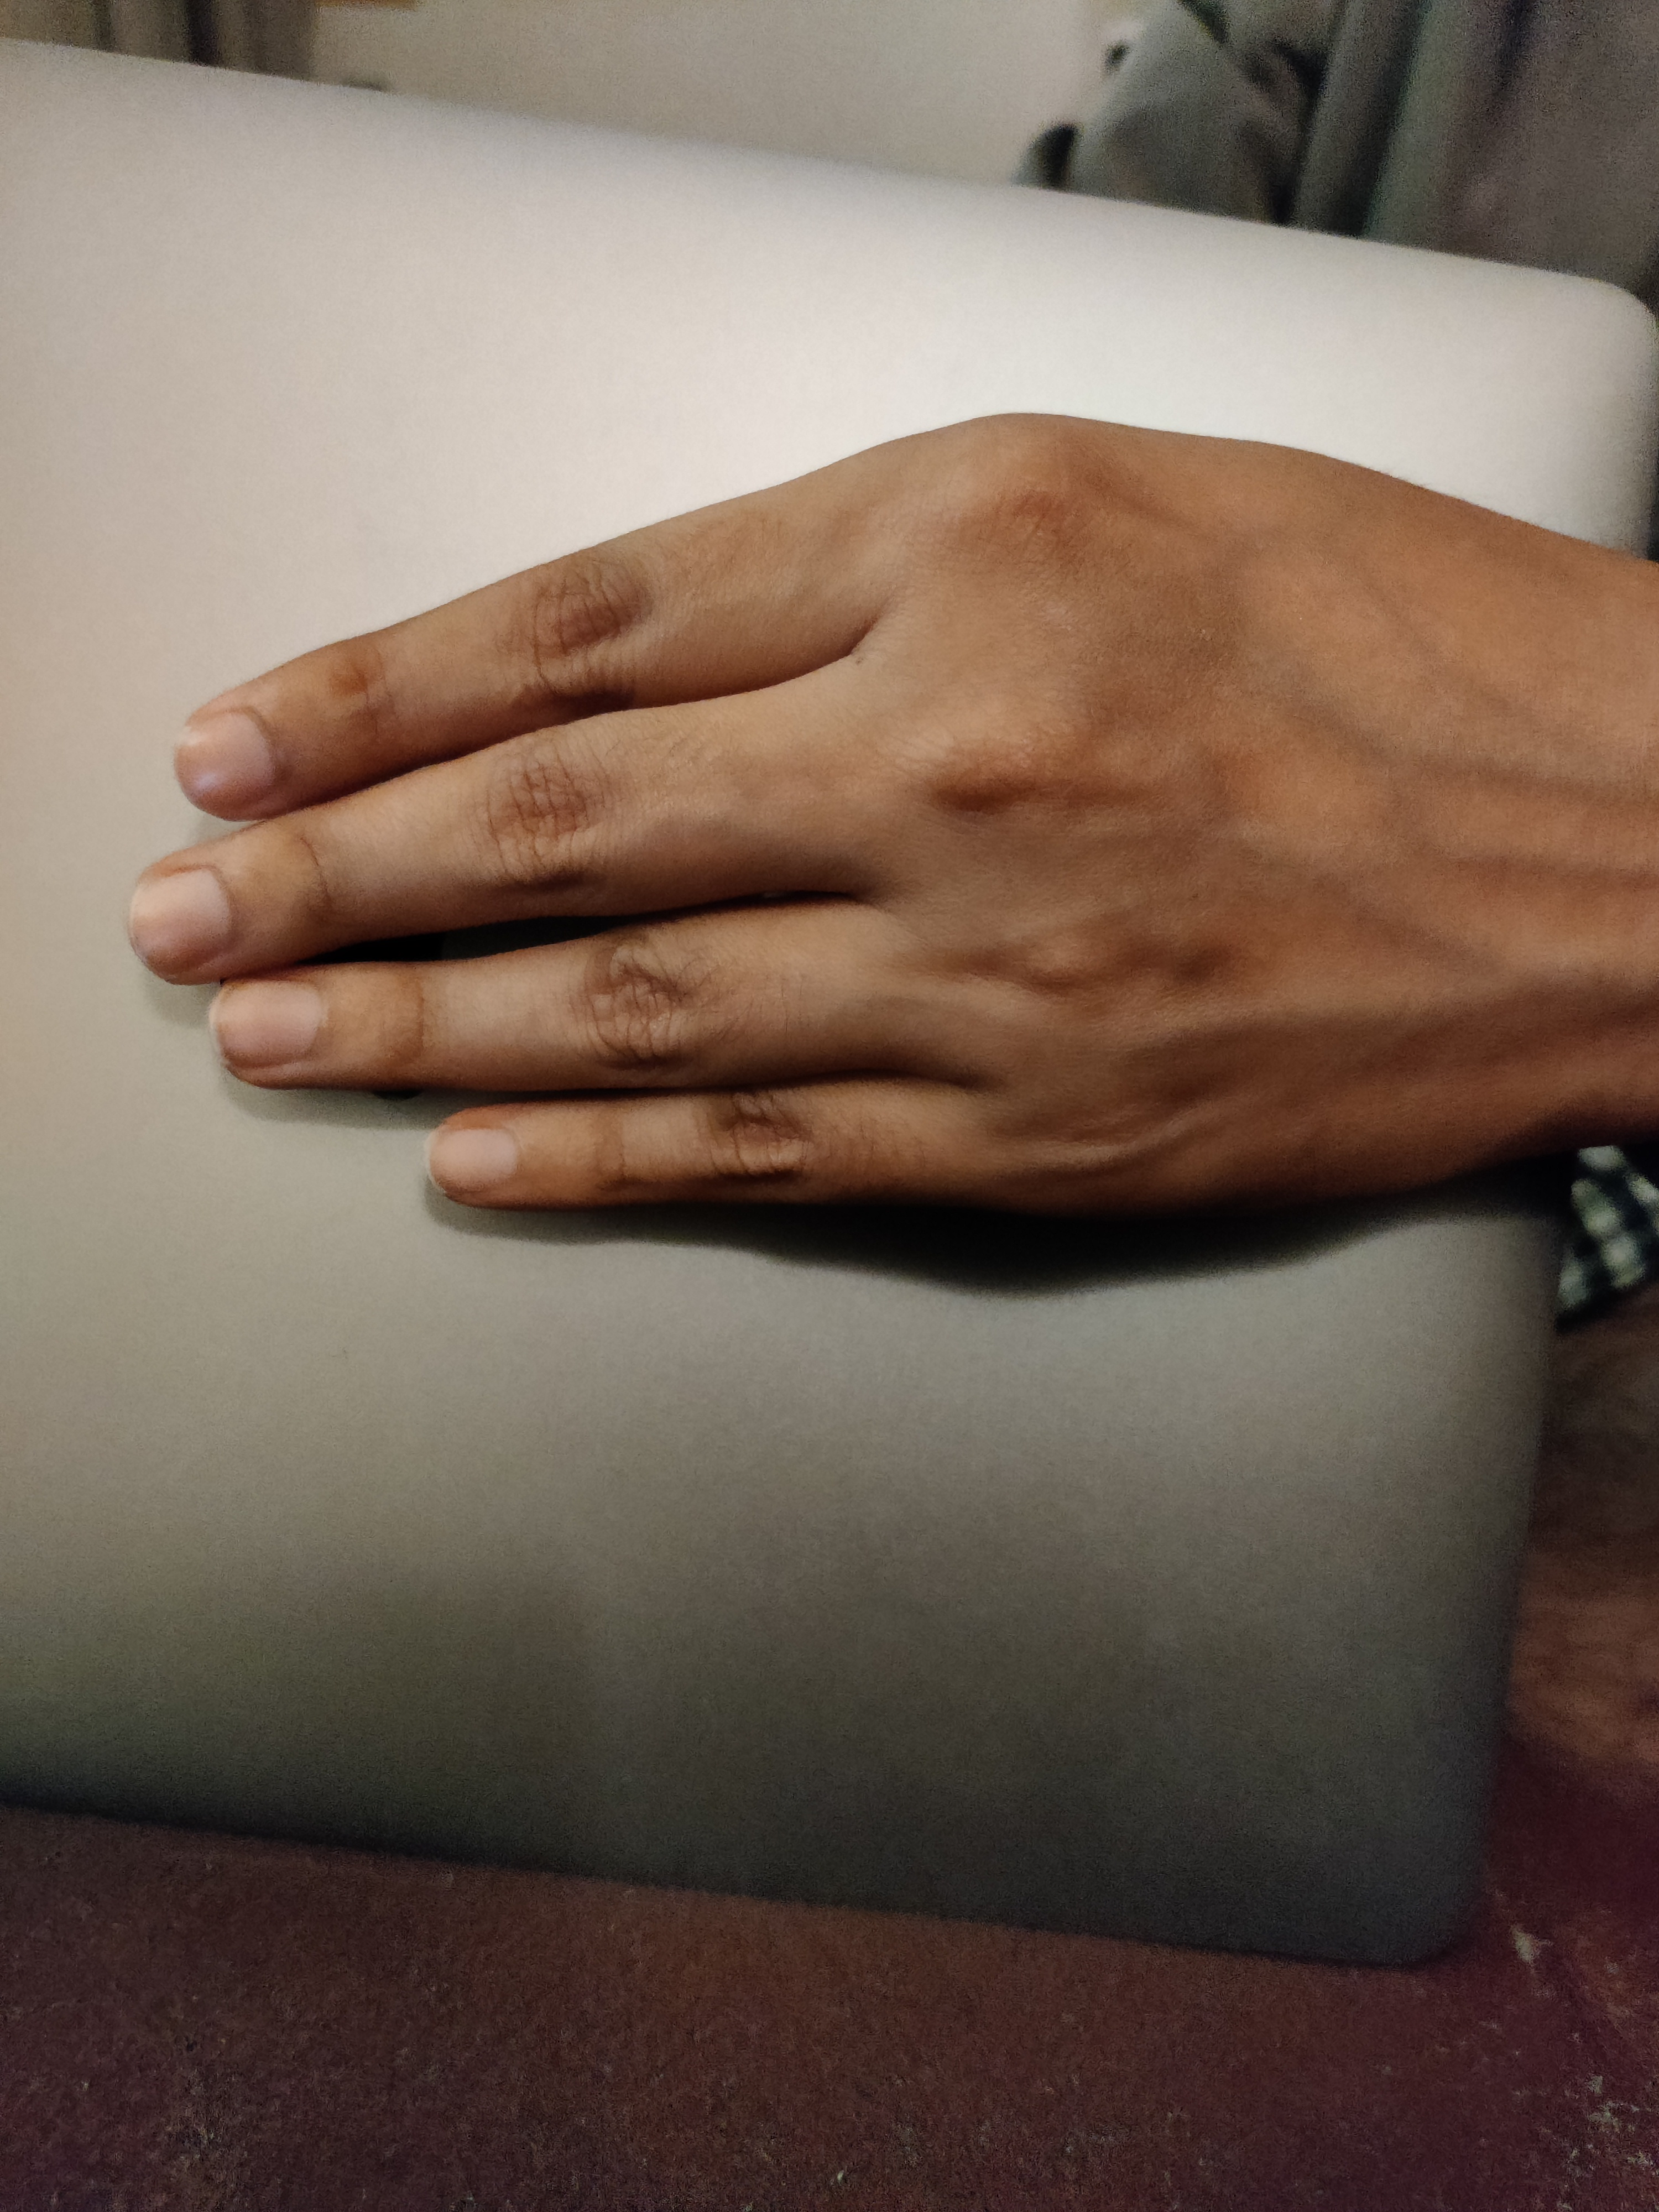right: (12, 246, 1600, 1366)
